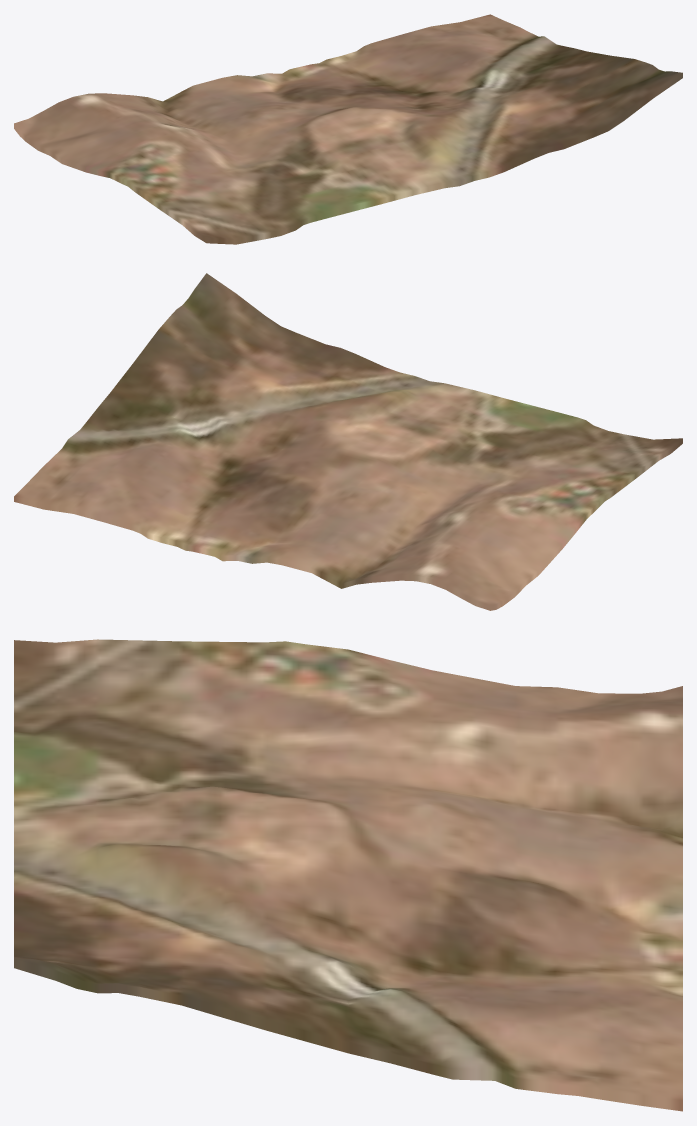
File: terrain_r7_c3_lod2.glb
The picture shows the model from 3 angles, top to bottom: view 1: azimuth 30°, elevation 25°; view 2: azimuth 150°, elevation 25°; view 3: azimuth 270°, elevation 25°; orthographic projection. The views are drawn at different scales.
Visible parts, largest first — view 1: terrain_r7_c3_lod2; view 2: terrain_r7_c3_lod2; view 3: terrain_r7_c3_lod2.
Boxes of the visible parts, box(x1,y1,x2,y2) form: terrain_r7_c3_lod2: box(14, 14, 682, 244); terrain_r7_c3_lod2: box(14, 273, 682, 610); terrain_r7_c3_lod2: box(14, 639, 682, 1111).
Bounding box in the file's own units: 1125 × 217 × 787.
1 material, 1 textured.
